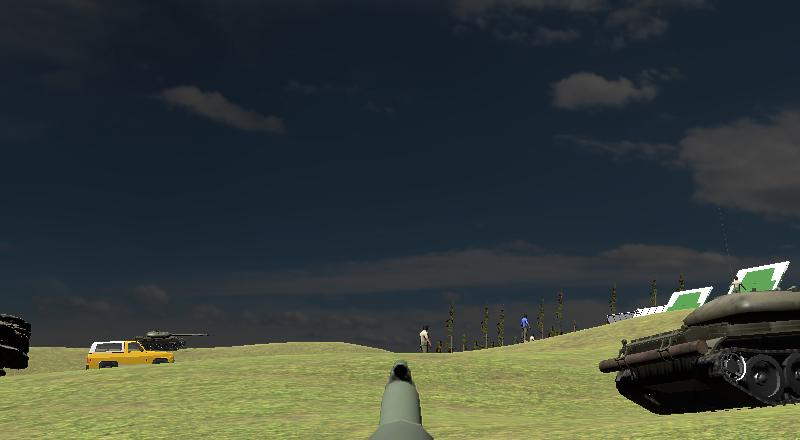Tank: (595, 282, 800, 418), (126, 329, 208, 355), (130, 328, 210, 353)
car: (85, 338, 176, 373)
